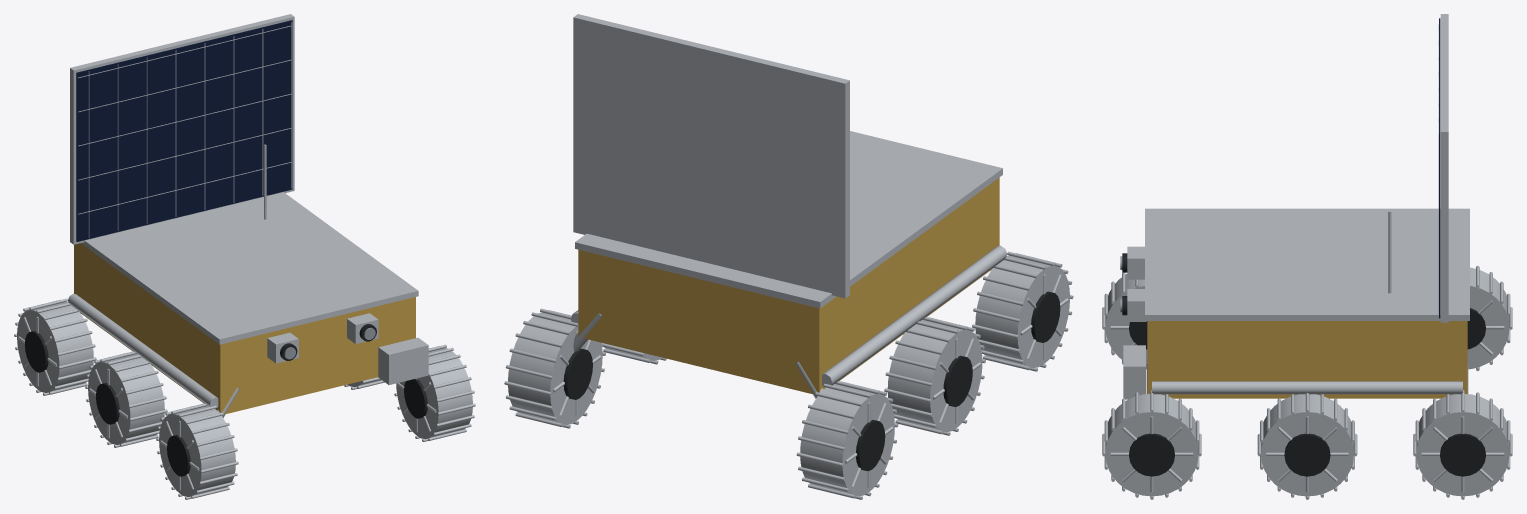
Rendered from pragyan_rover.glb.
The picture shows the model from 3 angles, left to right: view 1: azimuth 30°, elevation 25°; view 2: azimuth 150°, elevation 25°; view 3: azimuth 270°, elevation 25°; orthographic projection. The views are drawn at different scales.
Parts seen in each view (by area): view 1: solar_cells, deck, thermal_chassis, wheel_drum (×4), solar_backing, hub_cover (×4), rocker_link, spectrometer, camera_housing (×2); view 2: solar_backing, thermal_chassis, wheel_drum (×4), deck, hub_cover (×4), rocker_link; view 3: deck, thermal_chassis, wheel_drum (×5), hub_cover (×4), rocker_link, solar_backing, camera_housing (×2), spectrometer, solar_cells.
Part boxes in pixels (left/top/right/bottom): solar_cells: left=76, top=20, right=292, bottom=241; deck: left=81, top=192, right=418, bottom=344; thermal_chassis: left=74, top=243, right=415, bottom=414; wheel_drum (×4): left=17, top=302, right=472, bottom=496; solar_backing: left=70, top=14, right=294, bottom=244; hub_cover (×4): left=25, top=331, right=427, bottom=476; rocker_link: left=68, top=293, right=218, bottom=408; spectrometer: left=378, top=337, right=428, bottom=384; camera_housing (×2): left=267, top=313, right=378, bottom=363; solar_backing: left=573, top=14, right=849, bottom=298; thermal_chassis: left=578, top=177, right=999, bottom=394; wheel_drum (×4): left=508, top=255, right=1069, bottom=496; deck: left=575, top=131, right=1002, bottom=308; hub_cover (×4): left=563, top=291, right=1060, bottom=471; rocker_link: left=822, top=245, right=1007, bottom=387; deck: left=1145, top=208, right=1469, bottom=320; thermal_chassis: left=1147, top=321, right=1467, bottom=398; wheel_drum (×5): left=1105, top=267, right=1509, bottom=496; hub_cover (×4): left=1129, top=308, right=1485, bottom=476; rocker_link: left=1152, top=381, right=1462, bottom=394; solar_backing: left=1440, top=14, right=1448, bottom=322; camera_housing (×2): left=1127, top=246, right=1146, bottom=321; spectrometer: left=1123, top=345, right=1145, bottom=399; solar_cells: left=1439, top=18, right=1440, bottom=318.
Bounding box in the file's own units: 0.766 × 0.8537 × 0.8974.
5 materials, 5 textured.
